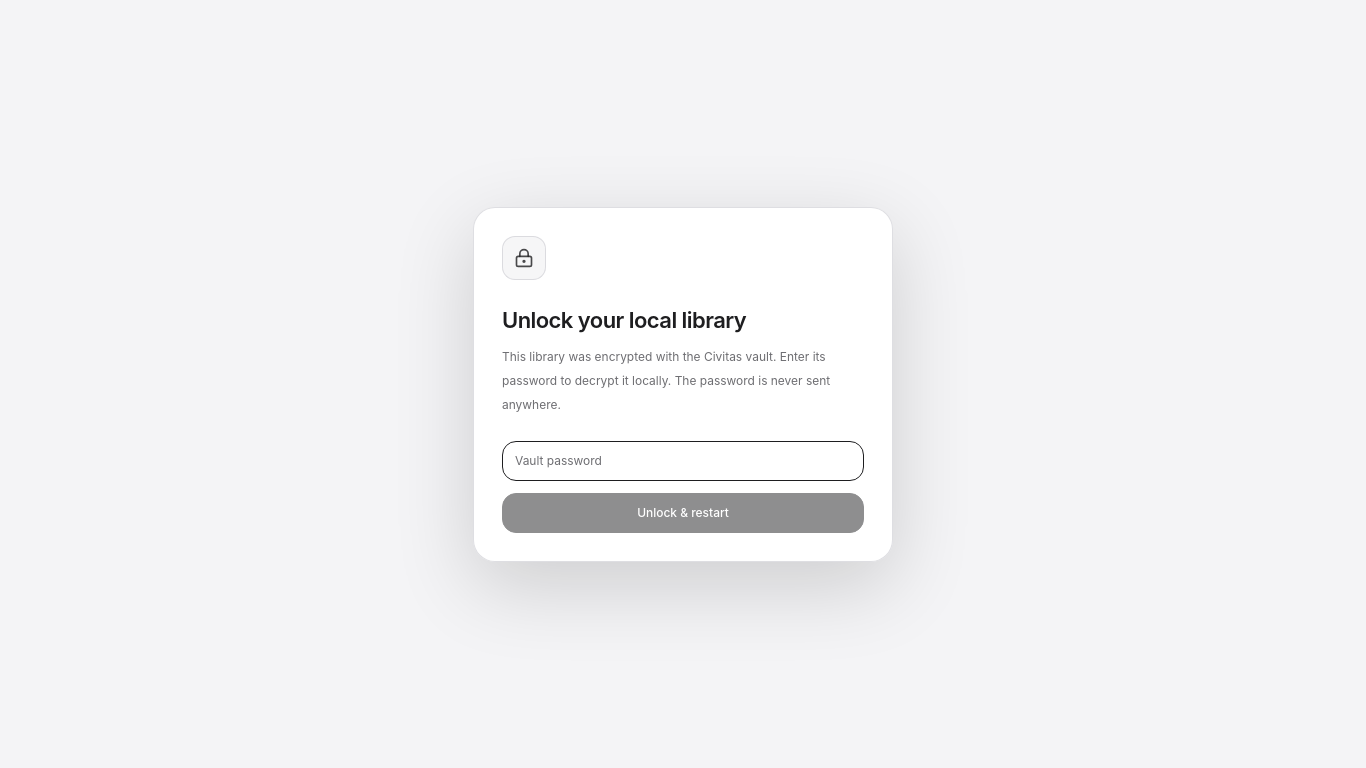
Test: VaultGate › shows a content-free recovery error after a wrong password
This screenshot has width=1366, height=768.
Type "wrong password" into the password field labelled "Vault password" at (683, 460), box 502,440 -> 864,480
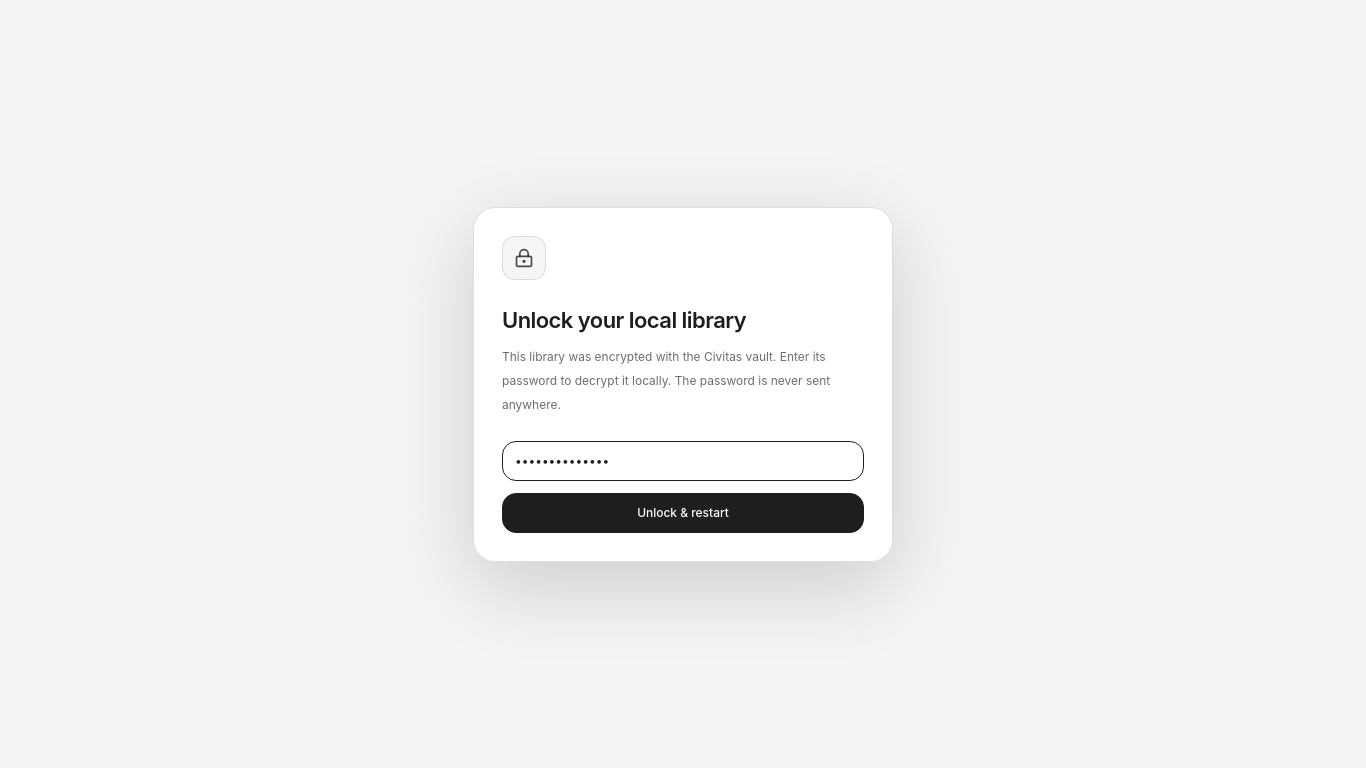
Click the button "Unlock & restart" at (683, 512), box 502,492 -> 864,532
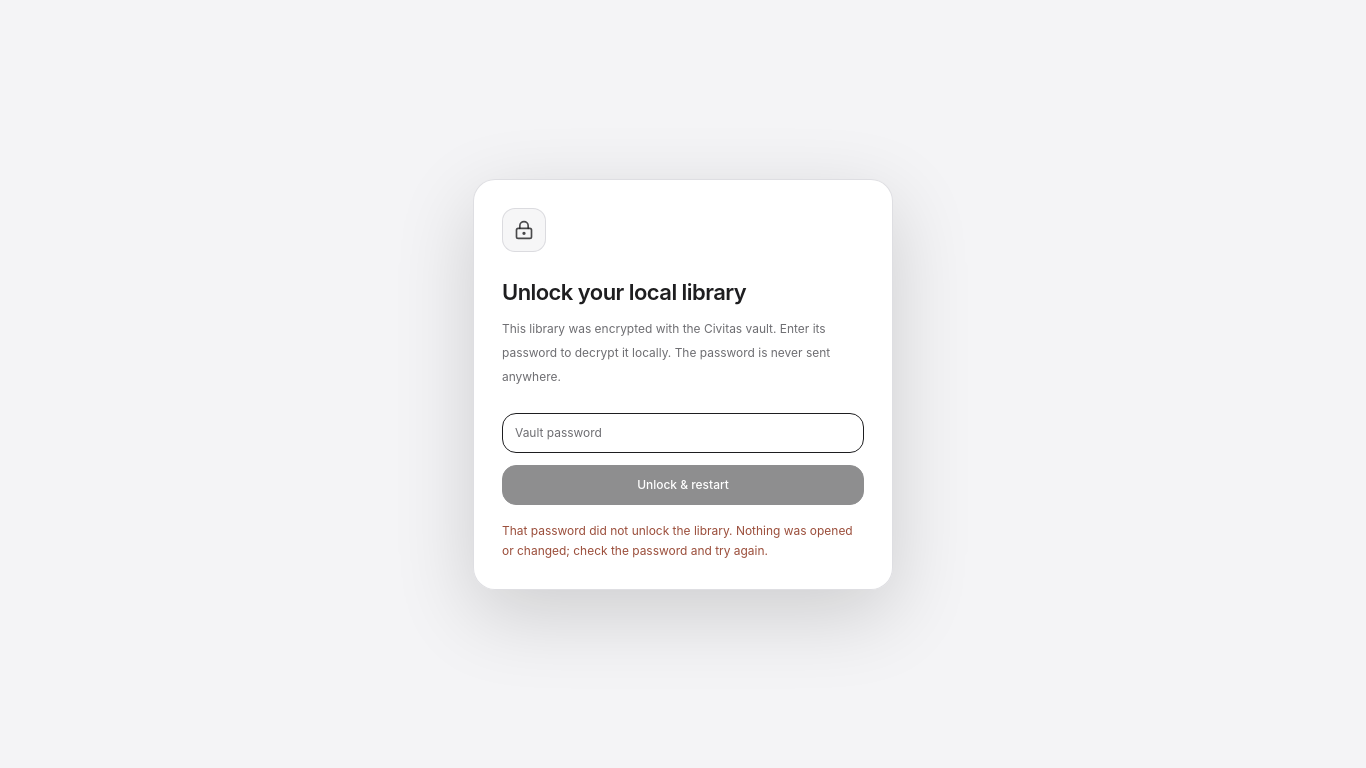
Check: the text "did not unlock the library" is shown, box 502,522 -> 853,558
Check: the password field labelled "Vault password" is empty, box 502,412 -> 864,452
